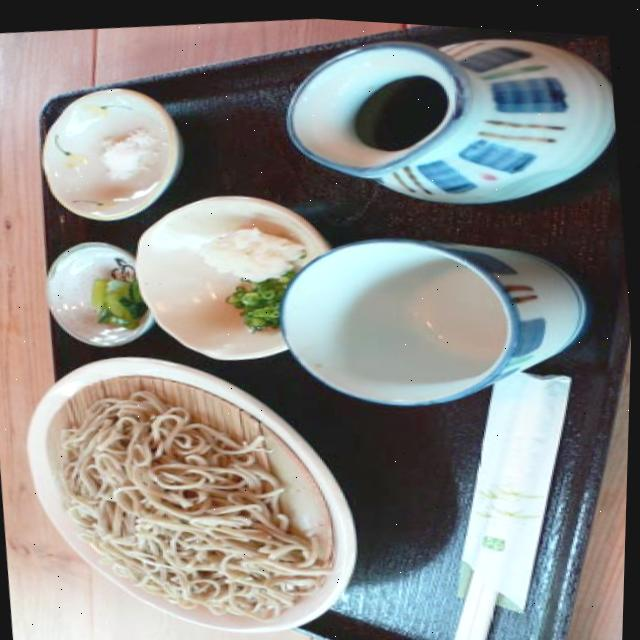面条主食: (3, 318, 382, 640)
